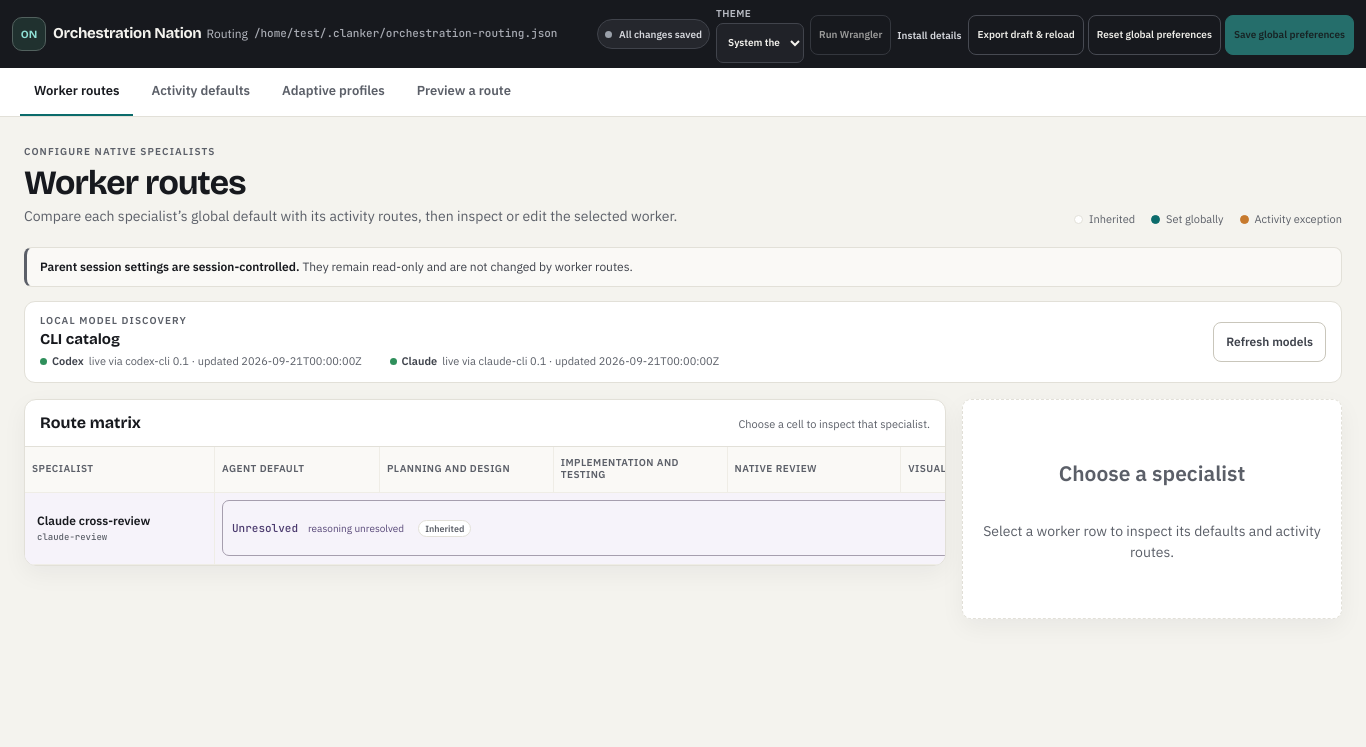
routing editor › keeps a late save failure global without attaching it to a newer draft
This screenshot has width=1366, height=747.
Click the tab "Activity defaults" at (201,92), box left=138, top=68, right=264, bottom=116
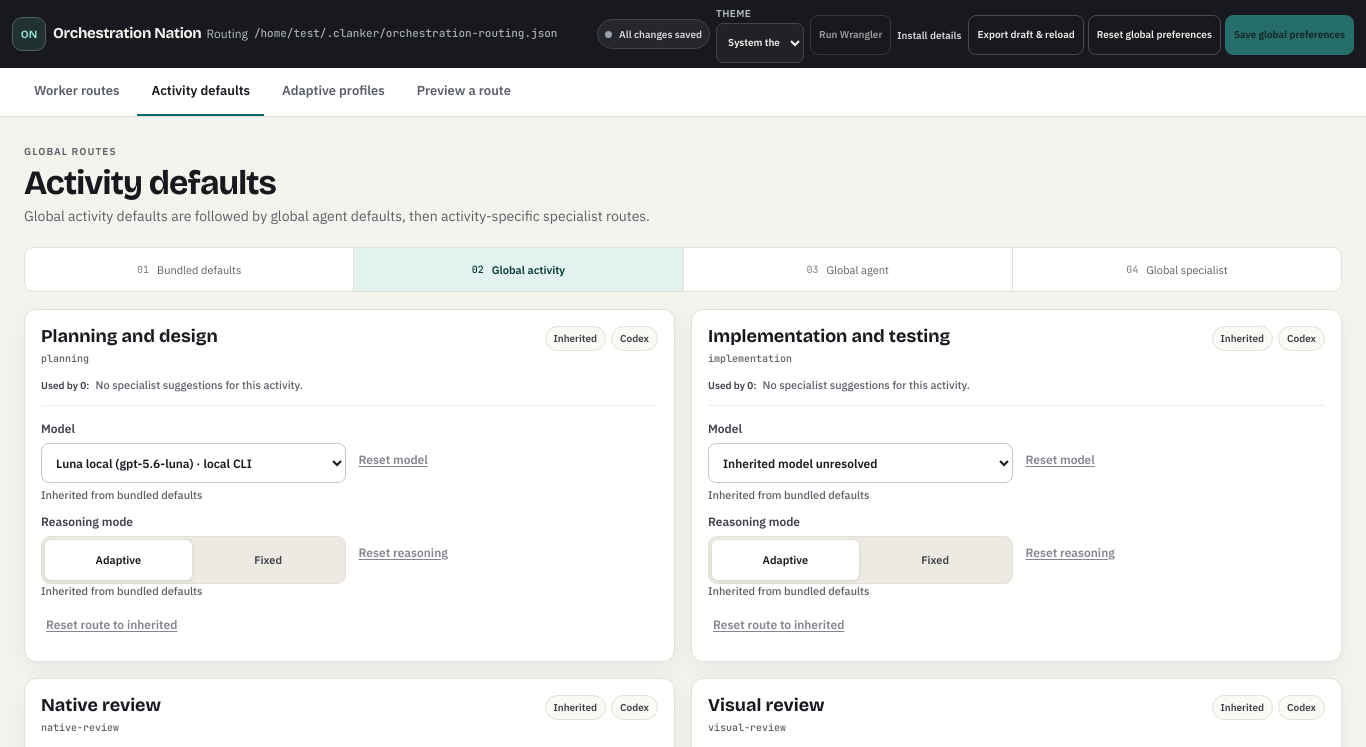
Select "Luna local (gpt-5.6-luna) · local CLI" in the dropdown labelled "Model Inherited from bundled defaults" below "Planning and design" at (193,463), box left=41, top=443, right=346, bottom=483
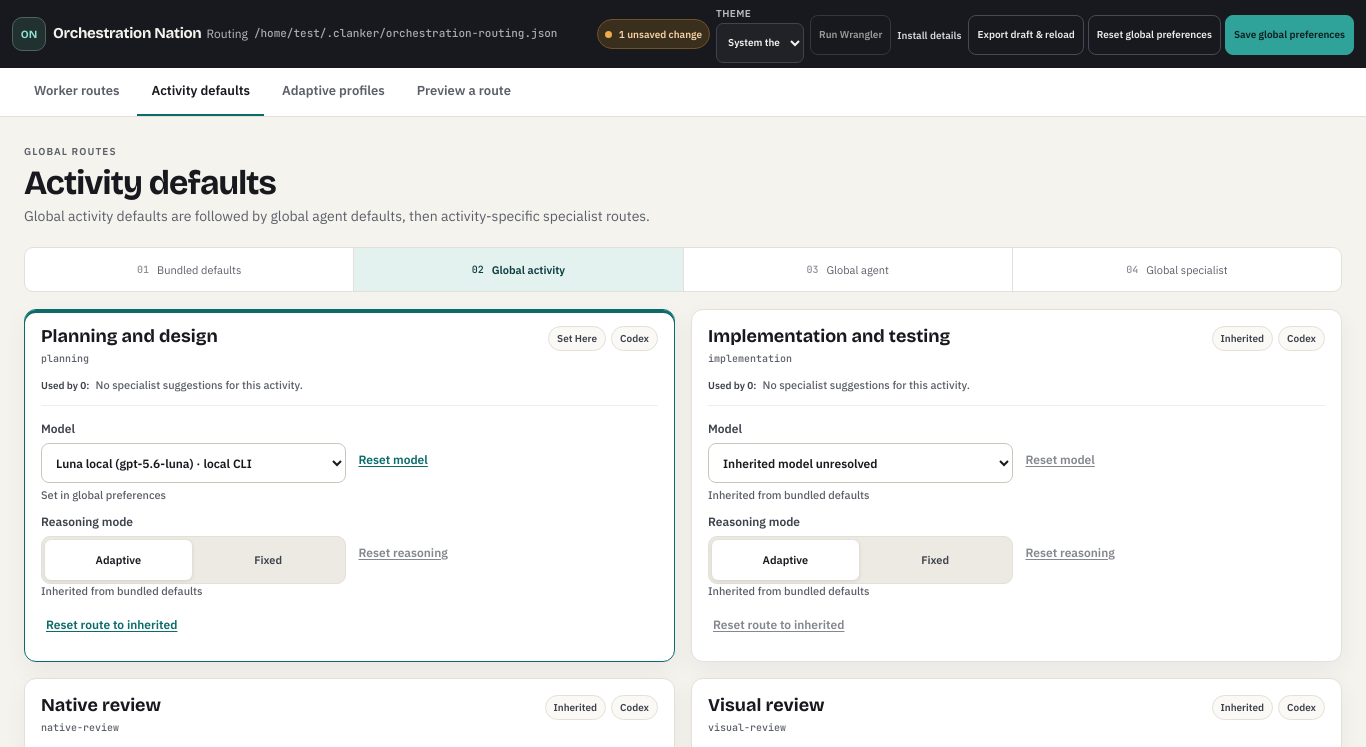
Click the button "Save global preferences" at (1289,35), box left=1225, top=15, right=1354, bottom=55
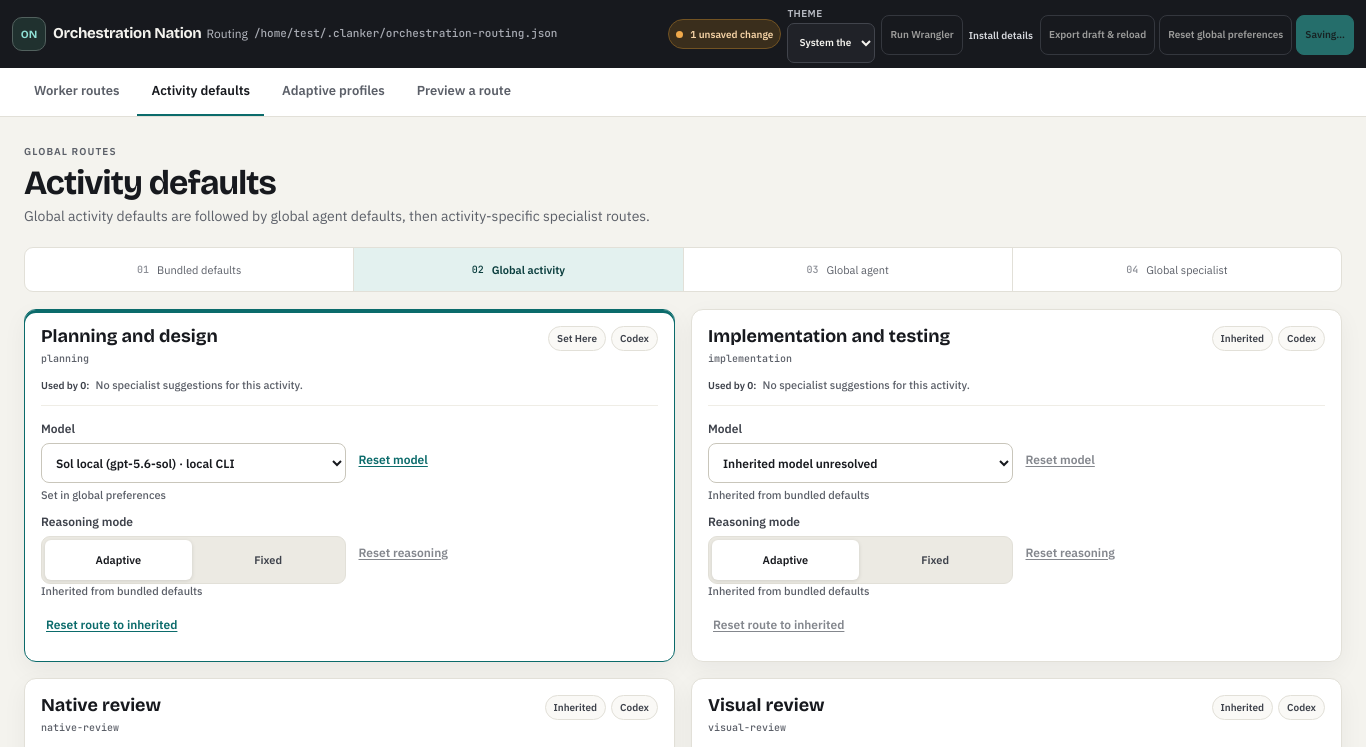
Select "Sol local (gpt-5.6-sol) · local CLI" in the dropdown labelled "Model Set in global preferences" at (193,463), box left=41, top=443, right=346, bottom=483
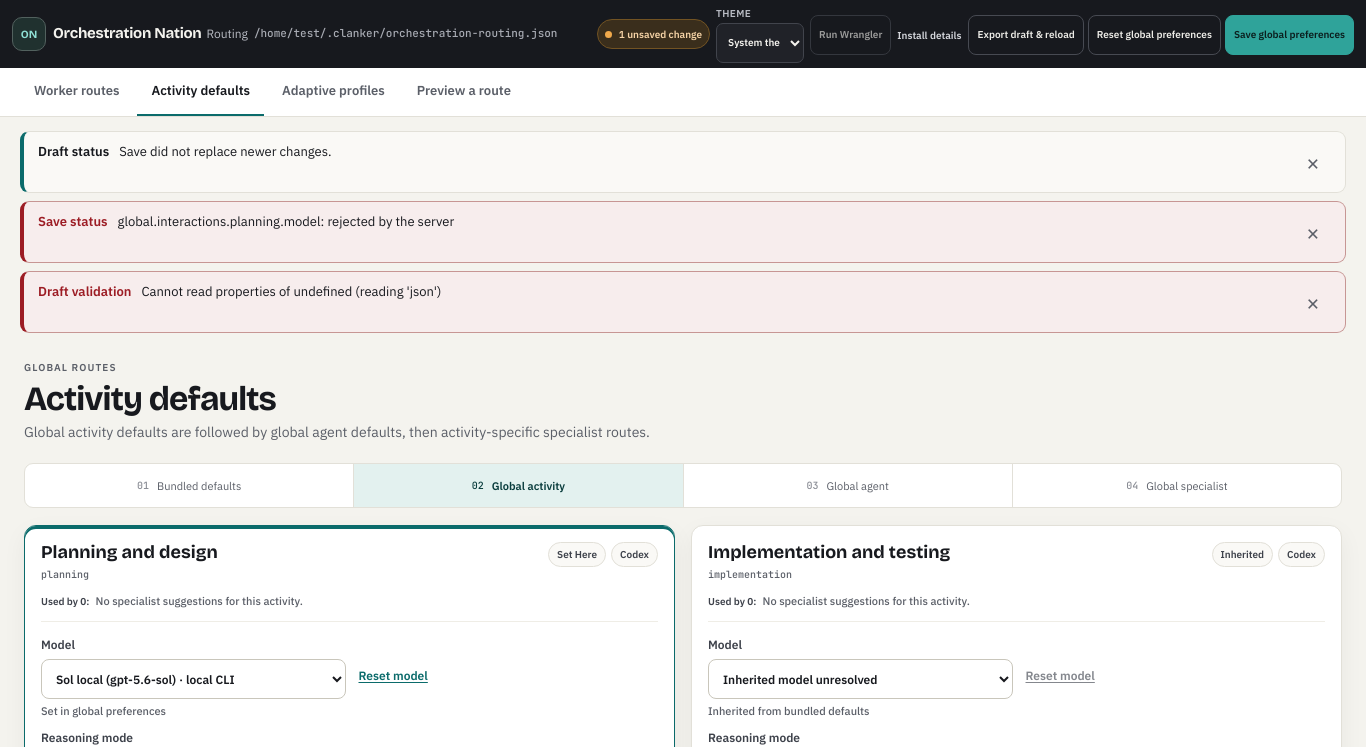
Expected: the text "rejected by the server" is shown, left=118, top=213, right=454, bottom=230
